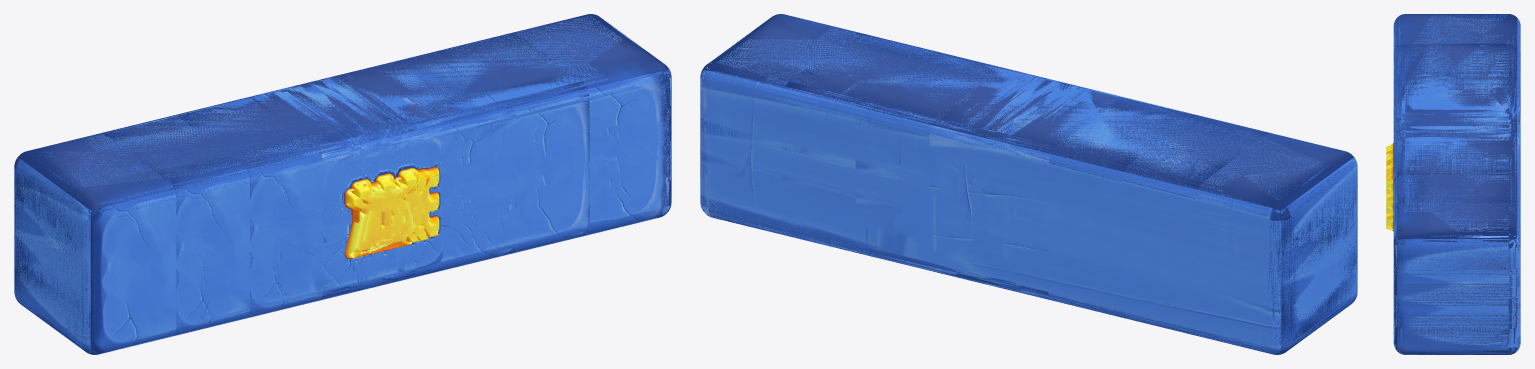
Rendered from stone.glb.
3 renders of one model, left to right at view 1: azimuth 30°, elevation 25°; view 2: azimuth 150°, elevation 25°; view 3: azimuth 270°, elevation 25°, orthographic. The views are drawn at different scales.
Visible parts, largest first — view 1: STONE_XLong_Surface, STONE_Vertical_XLong_Surface, STONE_Long_Surface, STONE_Base_Surface, STONE_Vertical_Long_Surface, STONE_Vertical_Base_Surface, STONE_Cube_Surface, STONE_Vertical_Cube_Surface; view 2: STONE_XLong_Surface, STONE_Long_Surface, STONE_Vertical_XLong_Surface, STONE_Base_Surface, STONE_Vertical_Long_Surface, STONE_Cube_Surface, STONE_Vertical_Cube_Surface, STONE_Vertical_Base_Surface; view 3: STONE_XLong_Surface, STONE_Vertical_XLong_Surface, STONE_Long_Surface, STONE_Vertical_Long_Surface, STONE_Base_Surface, STONE_Vertical_Base_Surface, STONE_Cube_Surface, STONE_Vertical_Cube_Surface.
Part boxes in pixels (x1=…): STONE_XLong_Surface: x1=14, y1=14, x2=671, y2=354; STONE_Vertical_XLong_Surface: x1=14, y1=14, x2=671, y2=353; STONE_Long_Surface: x1=103, y1=32, x2=589, y2=335; STONE_Base_Surface: x1=176, y1=50, x2=516, y2=313; STONE_Vertical_Long_Surface: x1=104, y1=46, x2=589, y2=335; STONE_Vertical_Base_Surface: x1=179, y1=51, x2=515, y2=313; STONE_Cube_Surface: x1=250, y1=68, x2=442, y2=297; STONE_Vertical_Cube_Surface: x1=251, y1=70, x2=442, y2=297; STONE_XLong_Surface: x1=700, y1=14, x2=1357, y2=354; STONE_Long_Surface: x1=782, y1=32, x2=1268, y2=336; STONE_Vertical_XLong_Surface: x1=700, y1=27, x2=1357, y2=352; STONE_Base_Surface: x1=855, y1=50, x2=1196, y2=317; STONE_Vertical_Long_Surface: x1=782, y1=33, x2=1217, y2=334; STONE_Cube_Surface: x1=929, y1=68, x2=1121, y2=299; STONE_Vertical_Cube_Surface: x1=929, y1=69, x2=1120, y2=299; STONE_Vertical_Base_Surface: x1=855, y1=50, x2=1195, y2=316; STONE_XLong_Surface: x1=1393, y1=14, x2=1520, y2=354; STONE_Vertical_XLong_Surface: x1=1386, y1=14, x2=1520, y2=354; STONE_Long_Surface: x1=1386, y1=43, x2=1520, y2=208; STONE_Vertical_Long_Surface: x1=1386, y1=44, x2=1520, y2=208; STONE_Base_Surface: x1=1386, y1=72, x2=1520, y2=184; STONE_Vertical_Base_Surface: x1=1386, y1=72, x2=1520, y2=183; STONE_Cube_Surface: x1=1386, y1=101, x2=1520, y2=170; STONE_Vertical_Cube_Surface: x1=1393, y1=103, x2=1520, y2=150.
Size of the model in its own units: 4 by 1 by 1.
8 materials, 8 textured.
